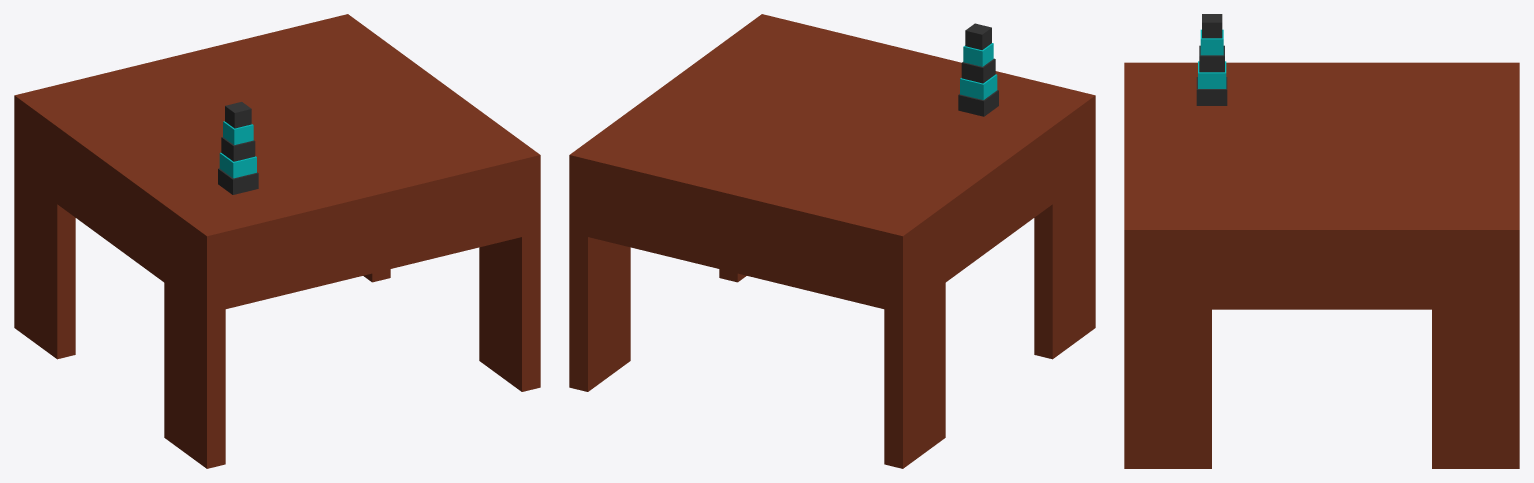
The model's file is hanoi_world_5_boxes.dae.
3 renders of one model, left to right at view 1: azimuth 30°, elevation 25°; view 2: azimuth 150°, elevation 25°; view 3: azimuth 270°, elevation 25°, orthographic. The views are drawn at different scales.
Parts seen in each view (by area): view 1: base (×9); view 2: base (×9); view 3: base (×8).
Boxes of the visible parts, bbox=[...] form: base (×9): bbox=[14, 14, 540, 468]; base (×9): bbox=[569, 14, 1095, 468]; base (×8): bbox=[1124, 14, 1519, 468].
Size of the model in its own units: 0.9 by 0.9 by 0.805.
